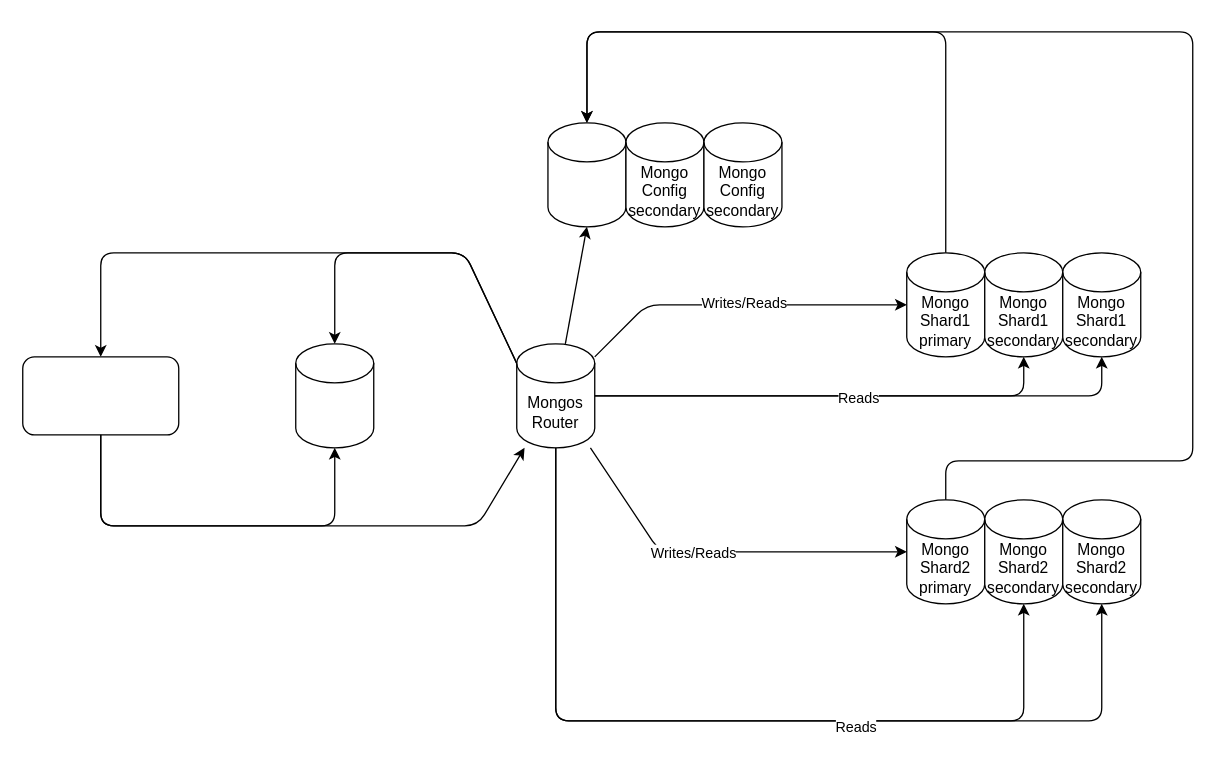
Some shapes in this 1226 by 758 pixel diagram are drawn without their labels. Each missing label, with the box of its shape:
Mongo Config primary: (547, 122, 626, 227)
pymongo-api: (21, 356, 179, 435)
Redis: (294, 343, 374, 448)
